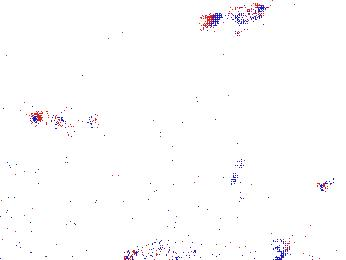X-ray fish: (145, 107, 191, 142)
red belly glassfish: (26, 107, 111, 133), (318, 170, 342, 197)
redtail glassfish: (207, 1, 266, 28)
